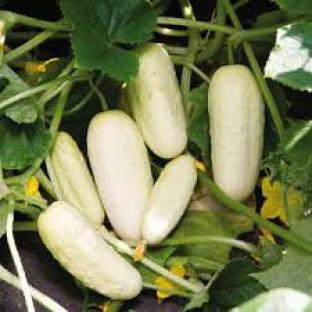Cucumber: (38, 202, 141, 299), (88, 111, 152, 242), (208, 66, 264, 201), (127, 43, 187, 158), (50, 132, 103, 223), (143, 156, 196, 244)
